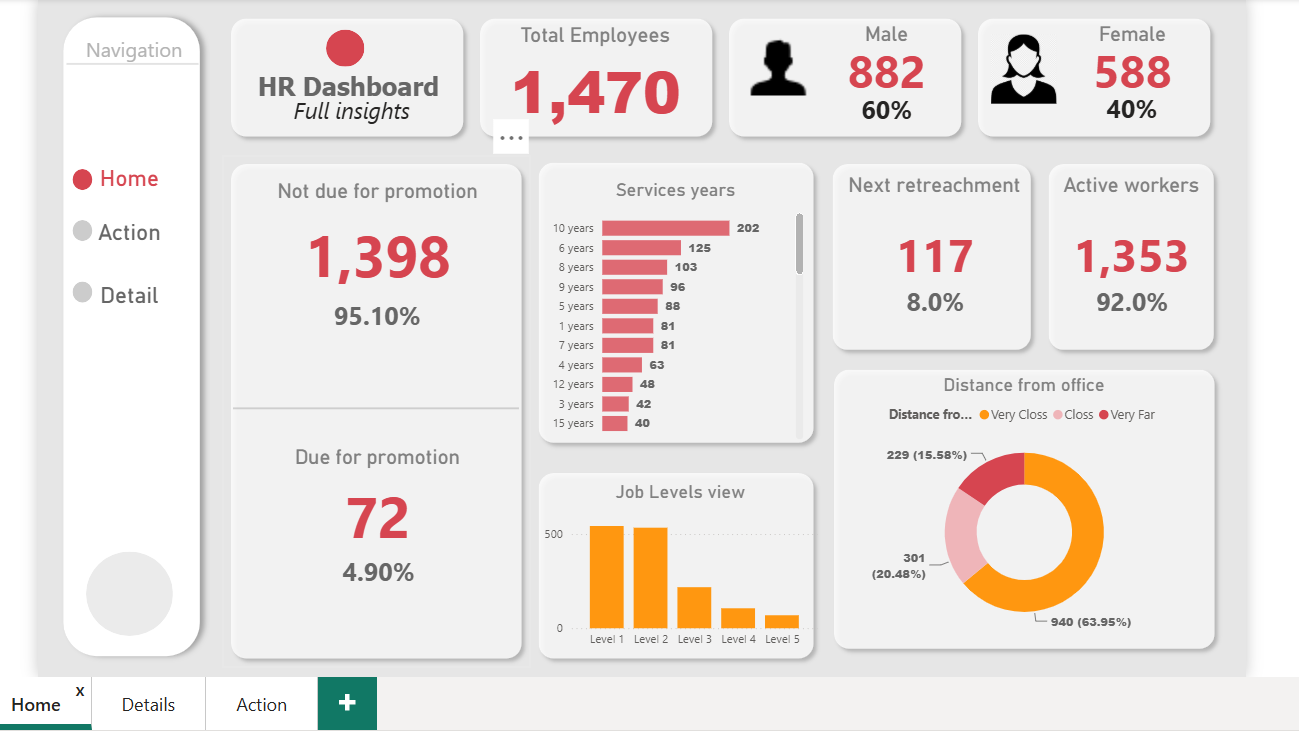

The dashboard page shown, as its layout file describes it:
{"tool":"powerbi","page":{"name":"Home","canvas":[1700,900],"ordinal":0},"visuals":[{"type":"shape","box":[184.2,8.1,368.4,196.3],"z":0},{"type":"shape","box":[0,18.2,163.9,882.5],"z":1000},{"type":"shape","box":[967.5,24.3,342.1,196.3],"z":2000},{"type":"shape","box":[572.8,24.3,368.4,196.3],"z":3000},{"type":"shape","box":[1327.8,16.2,336,210.5],"z":4000},{"type":"shape","box":[186.2,246.9,368.4,643.6],"z":5000},{"type":"shape","box":[591,246.9,441.2,321.8],"z":6000},{"type":"shape","box":[591,601.1,441.2,289.4],"z":7000},{"type":"shape","box":[1064.6,246.9,342.1,265.1],"z":8000},{"type":"shape","box":[1064.6,538.4,599.1,352.2],"z":9000},{"type":"shape","box":[1435.8,246.9,228.2,265.6],"z":10000},{"type":"textbox","box":[210.5,87,313.7,70.8],"z":11000},{"type":"textbox","box":[263.1,153.8,149.8,50.6],"z":12000},{"type":"shape","box":[303.6,16.2,64.8,70.8],"z":13000},{"type":"card","title":"Total Employees","fields":{"Values":["All measure.Total Emp"]},"box":[591,46.6,336,157.9],"z":14000},{"type":"card","title":"Male","fields":{"Values":["All measure.Male"]},"box":[1135.5,32.4,174.1,127.5],"z":15000},{"type":"card","title":"Female","fields":{"Values":["All measure.Female"]},"box":[1485.6,32.4,170,127.5],"z":16000},{"type":"card","fields":{"Values":["All measure.%male"]},"box":[1184.1,149.8,105.2,60.7],"z":17000},{"type":"card","fields":{"Values":["All measure.%female"]},"box":[1552.4,157.9,83,68.8],"z":18000},{"type":"image","box":[1008,70.8,111.3,121.4],"z":19000},{"type":"image","box":[1344,46.6,141.7,147.8],"z":20000},{"type":"card","title":"Due for promotion","fields":{"Values":["All measure.Due for promotion"]},"box":[216.6,267.2,301.6,182.2],"z":21000},{"type":"card","fields":{"Values":["All measure.% due for promotion"]},"box":[267.2,408.9,159.9,85],"z":22000},{"type":"card","title":"Not due","fields":{"Values":["All measure.Not due"]},"box":[216.6,568.8,287.4,176.1],"z":23000},{"type":"card","fields":{"Values":["All measure.% not due"]},"box":[277.3,714.5,184.2,147.8],"z":24000},{"type":"shape","box":[190.9,520.8,359,35.3],"z":25000},{"type":"barChart","title":"Service year","fields":{"Category":["HR Analytics Data.Service year"],"Y":["All measure.Total Emp"]},"box":[599.1,267.2,425,281.3],"z":26000},{"type":"columnChart","fields":{"Category":["HR Analytics Data.Job levels"],"Y":["All measure.Total Emp"]},"box":[609.2,609.2,404.8,275.3],"z":27000},{"type":"card","title":"On services","fields":{"Values":["All measure.On service"]},"box":[1103.8,267.7,240.7,126.6],"z":28000},{"type":"card","fields":{"Values":["All measure.%On service"]},"box":[1166.1,408.7,116.2,80.9],"z":29000},{"type":"card","title":"Retreanch","fields":{"Values":["All measure.will be retreachment"]},"box":[1456.6,267.7,178.4,118.3],"z":30000},{"type":"card","fields":{"Values":["All measure.%will be retreachment"]},"box":[1466.9,398.4,172.2,91.3],"z":31000},{"type":"donutChart","fields":{"Category":["HR Analytics Data.Distance status "],"Y":["All measure.Total Emp"]},"box":[1080.8,552.6,566.7,323.8],"z":32000}]}

Visuals, with their boxes on the page's 1700x900 design canvas (x1, y1, x2, y2). These are canvas units, not pixel positions in the 1299x731 screenshot, which may show the page scaled, cropped or inside an application window:
shape: 184:8:553:204
shape: 0:18:164:901
shape: 968:24:1310:221
shape: 573:24:941:221
shape: 1328:16:1664:227
shape: 186:247:555:890
shape: 591:247:1032:569
shape: 591:601:1032:890
shape: 1065:247:1407:512
shape: 1065:538:1664:891
shape: 1436:247:1664:512
textbox: 210:87:524:158
textbox: 263:154:413:204
shape: 304:16:368:87
"Total Employees" card: 591:47:927:204
"Male" card: 1136:32:1310:160
"Female" card: 1486:32:1656:160
card - All measure.%male: 1184:150:1289:210
card - All measure.%female: 1552:158:1635:227
image: 1008:71:1119:192
image: 1344:47:1486:194
"Due for promotion" card: 217:267:518:449
card - All measure.% due for promotion: 267:409:427:494
"Not due" card: 217:569:504:745
card - All measure.% not due: 277:714:462:862
shape: 191:521:550:556
"Service year" barChart: 599:267:1024:548
columnChart - HR Analytics Data.Job levels x All measure.Total Emp: 609:609:1014:884
"On services" card: 1104:268:1344:394
card - All measure.%On service: 1166:409:1282:490
"Retreanch" card: 1457:268:1635:386
card - All measure.%will be retreachment: 1467:398:1639:490
donutChart - HR Analytics Data.Distance status  x All measure.Total Emp: 1081:553:1648:876
